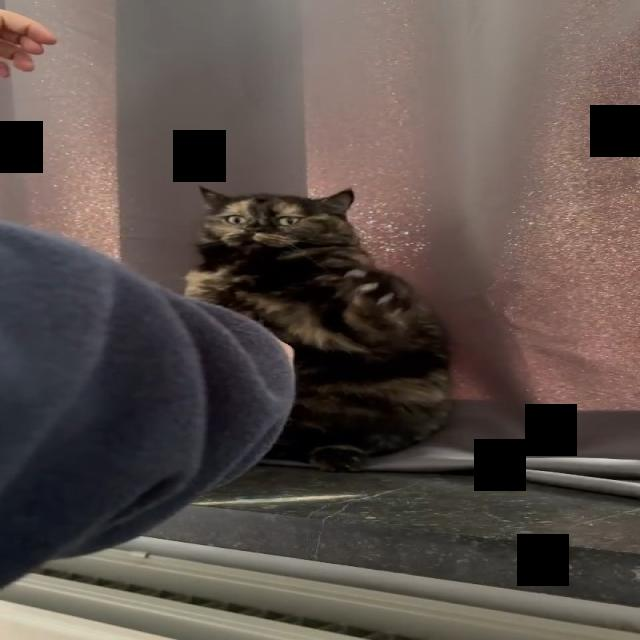authorized: (182, 184, 454, 473)
